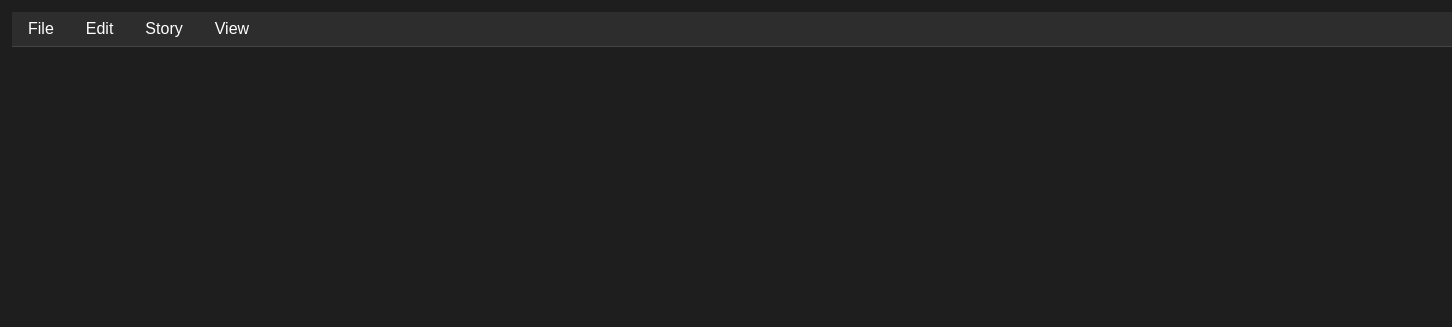
Test: Feature: Menu Bar Component › Scenario: User interacts with File menu › Given the File menu is closed, When clicked, Then it should open and display file options
The width and height of the screenshot is (1452, 327).
Click the button "File".
click(41, 29)  # box [12, 12, 70, 46]
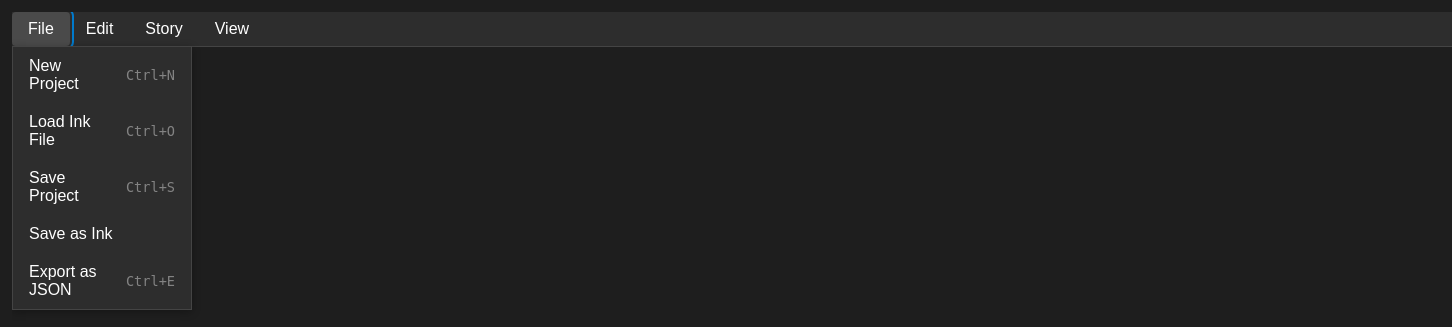
Expected: the text "New Project" is shown, [29, 57, 79, 92]
Expected: the text "Save Project" is shown, [29, 169, 79, 204]
Expected: the text "Export as JSON" is shown, [29, 263, 97, 298]
